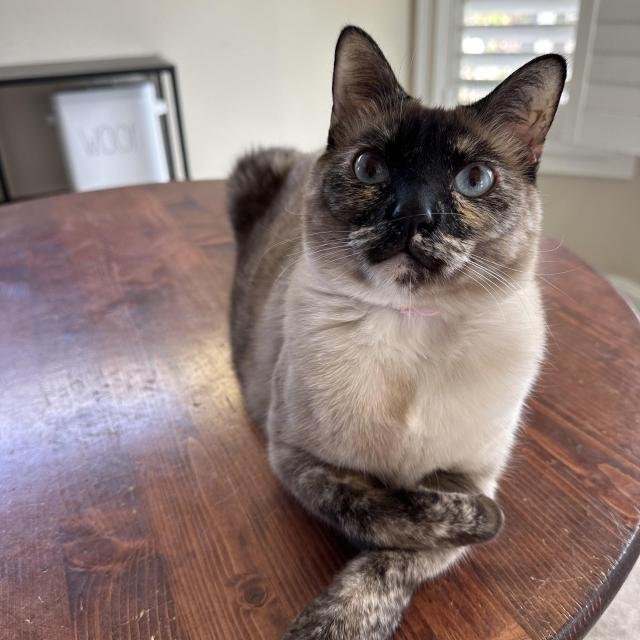siamese_cat: (300, 19, 569, 325)
